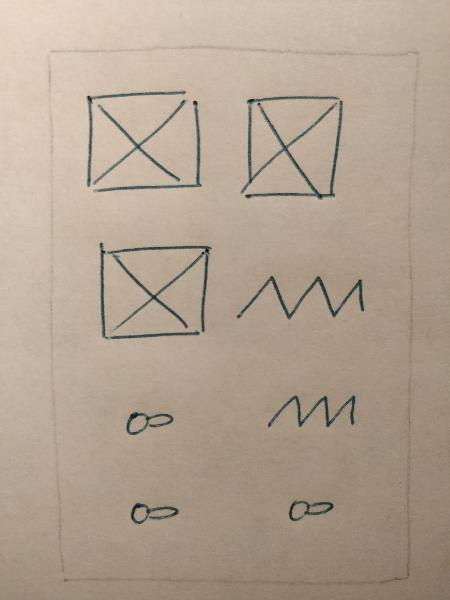image: (73, 83, 211, 199), (84, 238, 222, 348), (237, 86, 349, 205)
switch: (120, 485, 193, 541), (114, 398, 184, 450), (280, 487, 341, 529)
text: (232, 263, 370, 330), (253, 380, 364, 438)
